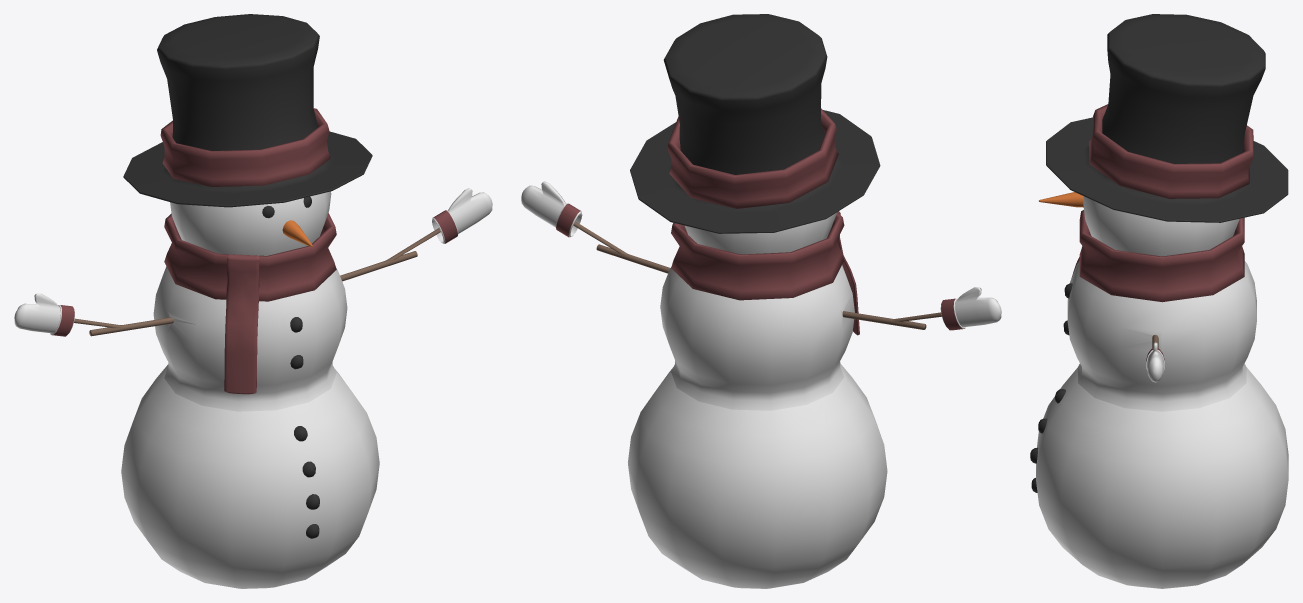
Rendered from Snowman_Export.fbx.
The picture shows the model from 3 angles, left to right: view 1: azimuth 30°, elevation 25°; view 2: azimuth 150°, elevation 25°; view 3: azimuth 270°, elevation 25°; orthographic projection.
Parts seen in each view (by area): view 1: polySurface7, pCylinder1, pTorus1, pTorus2, pCube1; view 2: polySurface7, pCylinder1, pTorus1, pTorus2; view 3: polySurface7, pCylinder1, pTorus1, pTorus2, pCylinder4.
Part boxes in pixels (bbox=[...]): polySurface7: bbox=[14, 188, 492, 588]; pCylinder1: bbox=[123, 14, 372, 207]; pTorus1: bbox=[164, 213, 336, 301]; pTorus2: bbox=[160, 108, 330, 186]; pCube1: bbox=[224, 254, 259, 394]; polySurface7: bbox=[521, 181, 1001, 588]; pCylinder1: bbox=[630, 14, 880, 233]; pTorus1: bbox=[671, 213, 844, 300]; pTorus2: bbox=[667, 108, 838, 208]; polySurface7: bbox=[1036, 196, 1288, 588]; pCylinder1: bbox=[1046, 14, 1288, 222]; pTorus1: bbox=[1079, 210, 1244, 302]; pTorus2: bbox=[1089, 104, 1253, 198]; pCylinder4: bbox=[1039, 192, 1083, 207].
Bounding box in the file's own units: 16.98 × 18.3 × 7.97.
